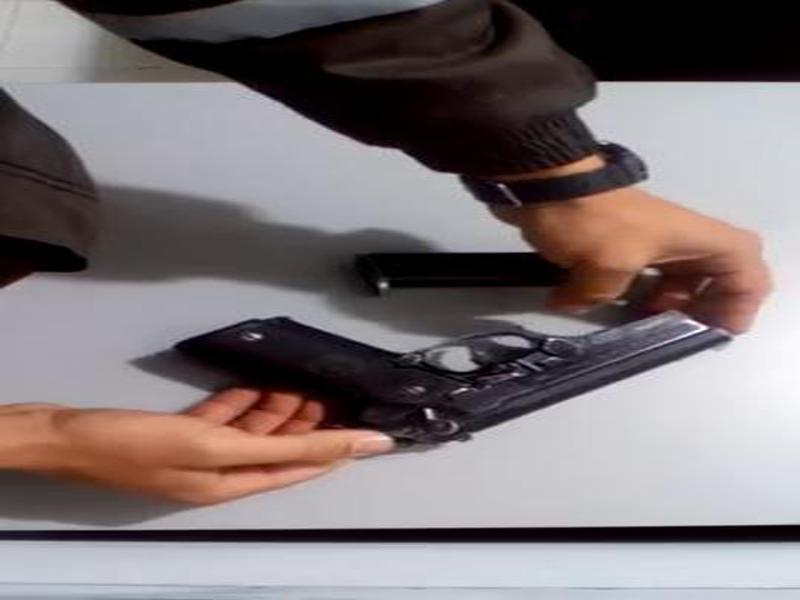Pistola: (171, 295, 749, 477)
